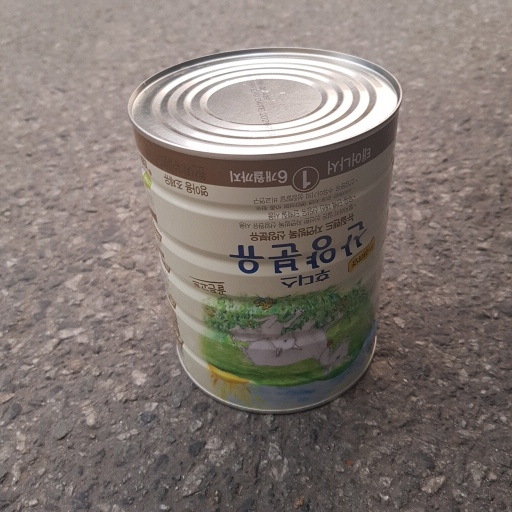Metal_1: (121, 46, 417, 412)
